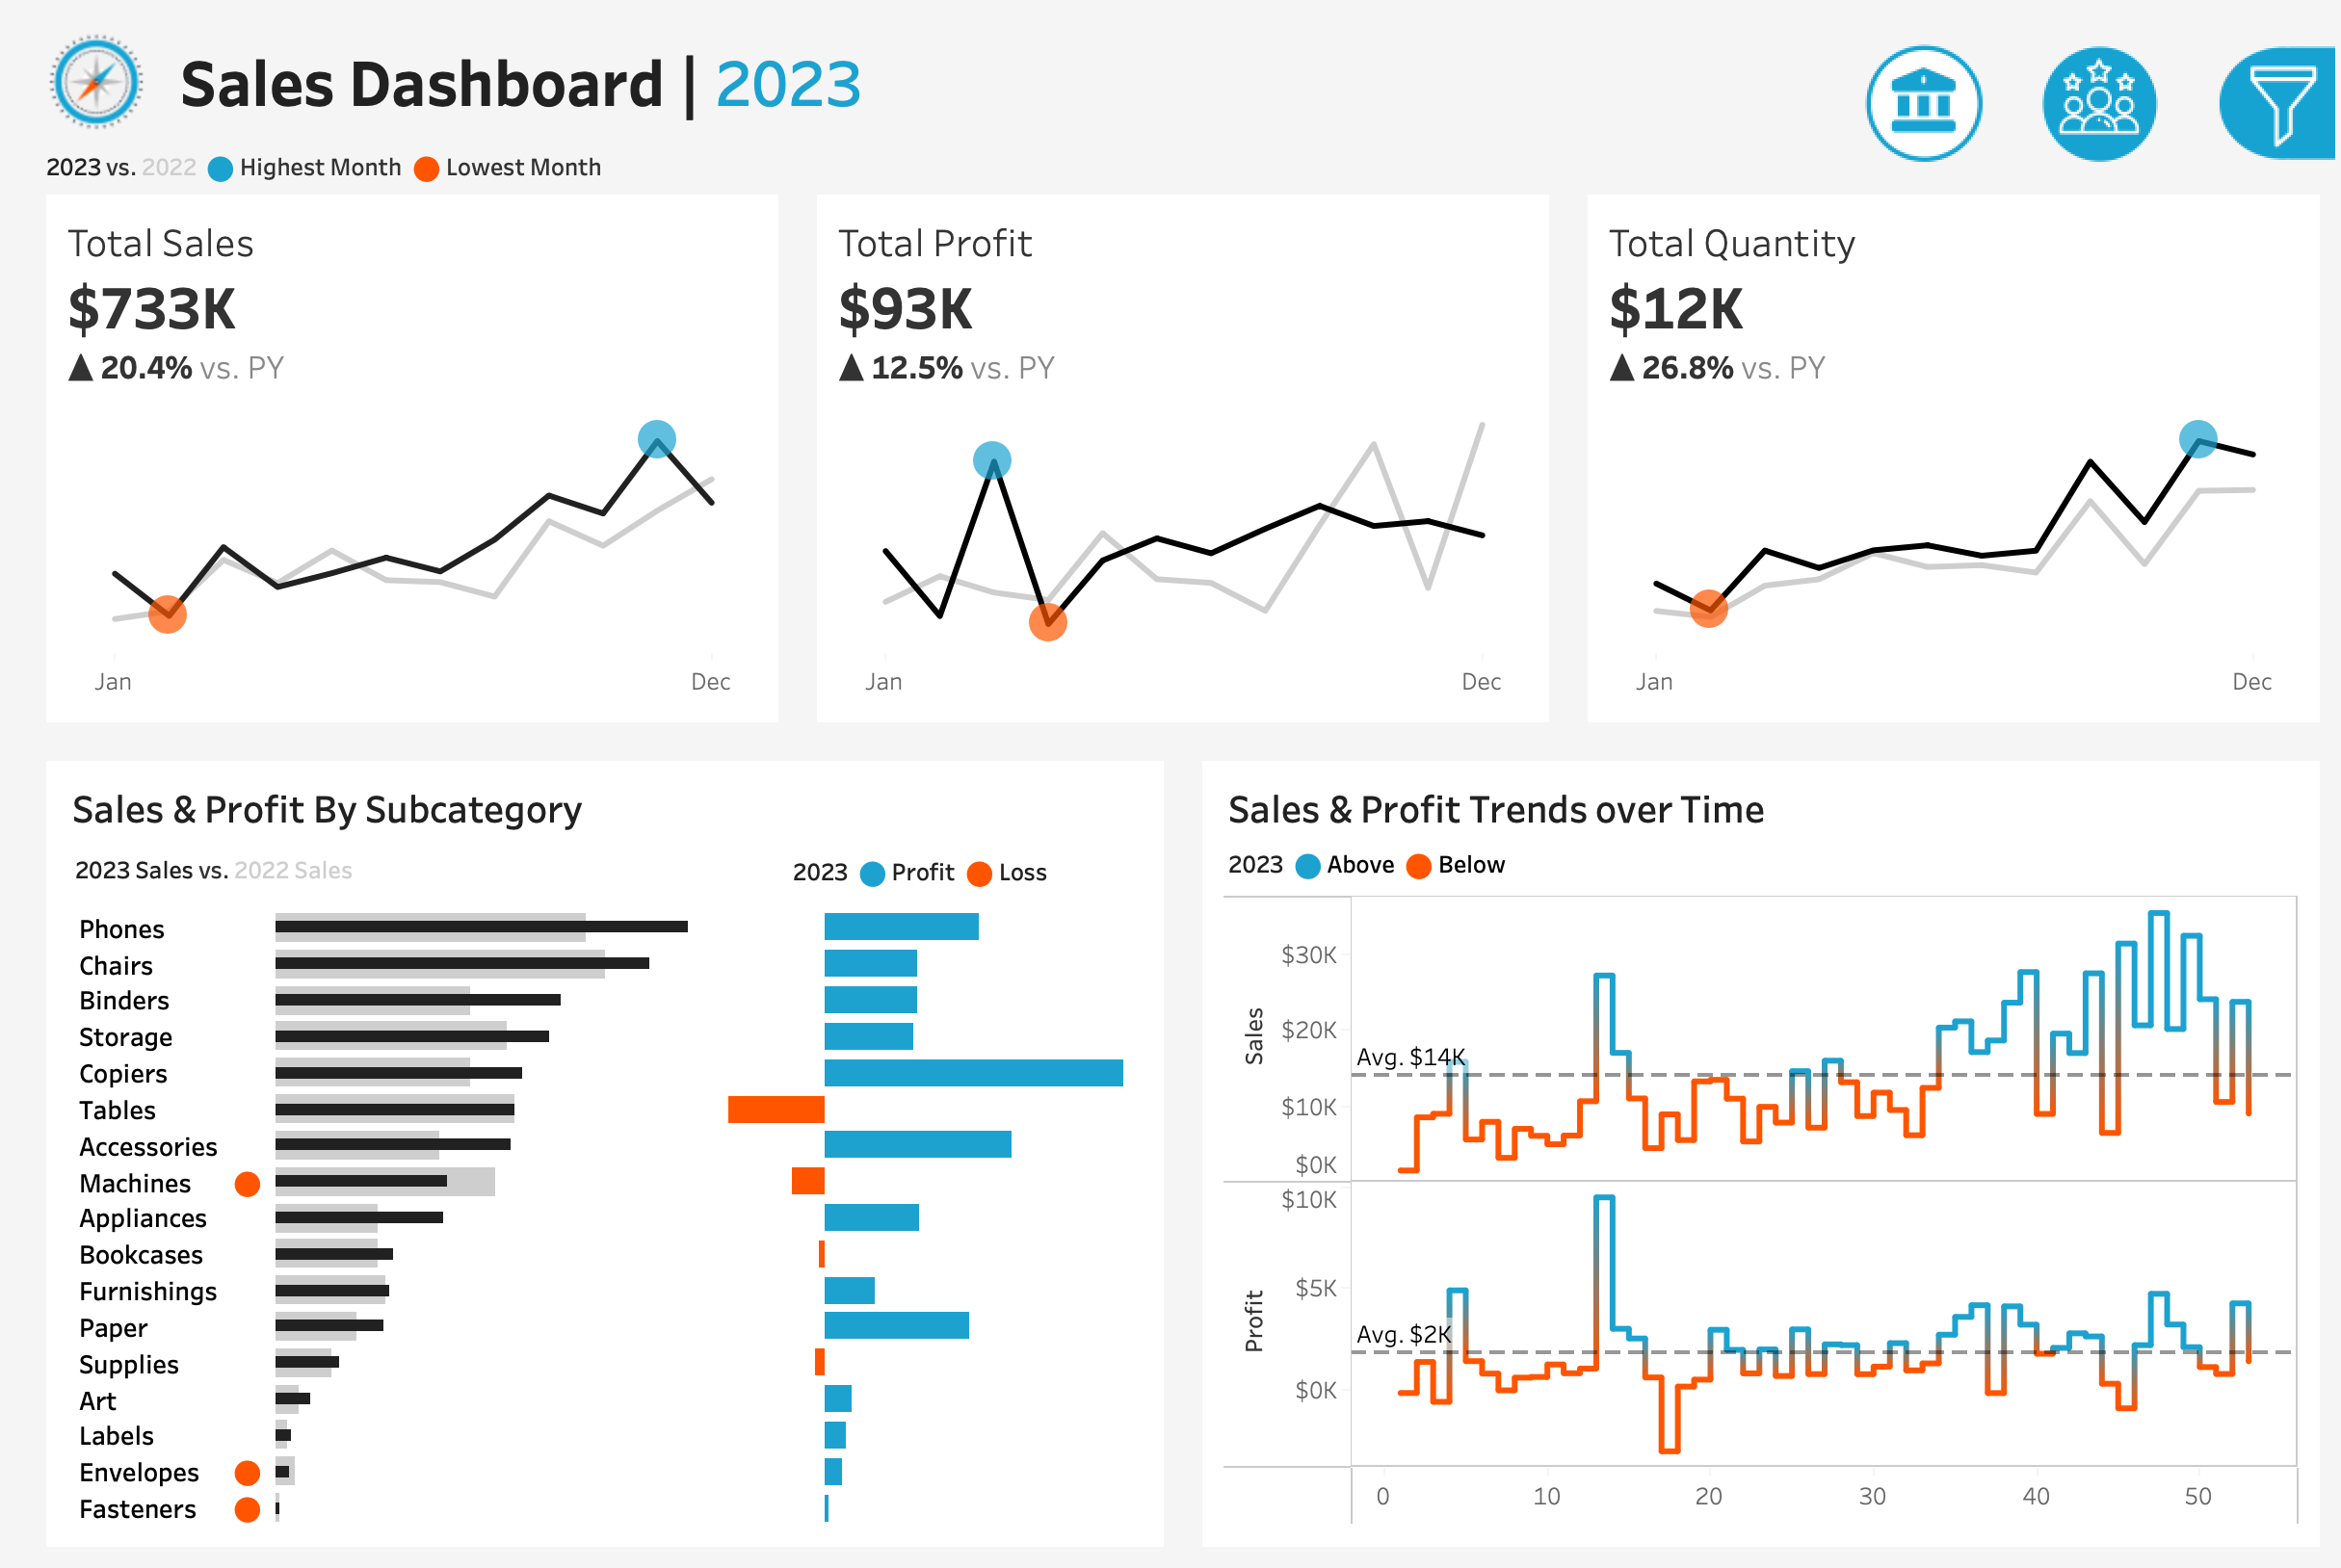

What the dashboard file says about the page in this screenshot:
{"tool":"tableau","page":{"name":"Sales Dashboard","canvas":[1200,800],"ordinal":1},"visuals":[{"type":"image","param":"/Users/shubhdeepnayak/Documents/Projects/Tableau/Project 1/Source/a/sales-dashbo","box":[0,0,54,59]},{"type":"text","box":[54,0,826,59]},{"type":"dashboard-object","box":[908,9,106,59]},{"type":"dashboard-object","box":[1014,9,106,59]},{"type":"blank","box":[927,10,262,91]},{"type":"worksheet","title":"Legend KPI","mark":"Automatic","box":[0,59,1200,36]},{"type":"worksheet","title":"KPI Sales","mark":"Automatic","rows":["Calculation_95560822820208648"],"cols":["Order Date"],"box":[0,95,400,287]},{"type":"worksheet","title":"KPI Profit","mark":"Automatic","rows":["Min/Max Sales (copy)_95560822821535753"],"cols":["Order Date"],"box":[400,95,400,287]},{"type":"worksheet","title":"KPI Quantity","mark":"Automatic","rows":["Min/Max Profit (copy)_119767670824357888"],"cols":["Order Date"],"box":[800,95,400,287]},{"type":"text","box":[927,101,262,35]},{"type":"parameter","param":"[Parameters].[Parameter 1]","box":[927,136,262,52]},{"type":"blank","box":[927,188,262,60]},{"type":"text","box":[927,248,262,29]},{"type":"filter","title":"KPI Sales","param":"[federated.0gf9j9j0zfu4oc14wdcfw0szidq5].[none:Category:nk]","box":[927,277,262,52]},{"type":"filter","title":"KPI Sales","param":"[federated.0gf9j9j0zfu4oc14wdcfw0szidq5].[none:Sub-Category:nk]","box":[927,329,262,52]},{"type":"blank","box":[927,381,262,60]},{"type":"text","box":[17,399,566,34]},{"type":"text","box":[617,399,566,34]},{"type":"worksheet","title":"Legend Subcategory","mark":"Automatic","box":[17,433,409,32]},{"type":"text","box":[426,433,157,32]},{"type":"text","box":[617,433,566,25]},{"type":"text","box":[927,441,262,29]},{"type":"worksheet","title":"Weekly Trend","mark":"Automatic","rows":["Calculation_95560822808502274","CY Sales (copy)_95560822817226757"],"cols":["Order Date"],"box":[617,458,566,325]},{"type":"worksheet","title":"Subcategory Comparision","mark":"Bar","rows":["Sub-Category","Calculation_364510095584268288"],"cols":["CY Sales (copy)_95560822814830595","Calculation_95560822808502274","CY Sales (copy)_95560822817226757"],"box":[17,465,566,318]},{"type":"filter","title":"KPI Sales","param":"[federated.0gf9j9j0zfu4oc14wdcfw0szidq5].[none:Region:nk]","box":[927,470,262,52]},{"type":"filter","title":"KPI Sales","param":"[federated.0gf9j9j0zfu4oc14wdcfw0szidq5].[none:State:nk]","box":[927,522,262,52]},{"type":"filter","title":"KPI Sales","param":"[federated.0gf9j9j0zfu4oc14wdcfw0szidq5].[none:City:nk]","box":[927,574,262,52]}]}

Visuals, with their boxes in screenshot pixels (x1, y1, x2, y2), scaled from the page's 1200x800 canvas onto the 2341x1568 screenshot:
image: region(0, 0, 105, 116)
text: region(105, 0, 1717, 116)
dashboard-object: region(1772, 17, 1978, 133)
dashboard-object: region(1978, 17, 2185, 133)
blank: region(1808, 19, 2320, 198)
"Legend KPI" worksheet: region(0, 116, 2340, 186)
"KPI Sales" worksheet: region(0, 186, 780, 748)
"KPI Profit" worksheet: region(780, 186, 1561, 748)
"KPI Quantity" worksheet: region(1561, 186, 2340, 748)
text: region(1808, 198, 2320, 267)
parameter: region(1808, 267, 2320, 369)
blank: region(1808, 369, 2320, 486)
text: region(1808, 486, 2320, 543)
"KPI Sales" filter: region(1808, 543, 2320, 645)
"KPI Sales" filter: region(1808, 645, 2320, 746)
blank: region(1808, 746, 2320, 864)
text: region(33, 782, 1138, 849)
text: region(1203, 782, 2308, 849)
"Legend Subcategory" worksheet: region(33, 849, 831, 911)
text: region(831, 849, 1138, 911)
text: region(1203, 849, 2308, 898)
text: region(1808, 864, 2320, 921)
"Weekly Trend" worksheet: region(1203, 898, 2308, 1534)
"Subcategory Comparision" worksheet (Bar marks): region(33, 911, 1138, 1534)
"KPI Sales" filter: region(1808, 921, 2320, 1023)
"KPI Sales" filter: region(1808, 1023, 2320, 1125)
"KPI Sales" filter: region(1808, 1125, 2320, 1227)
